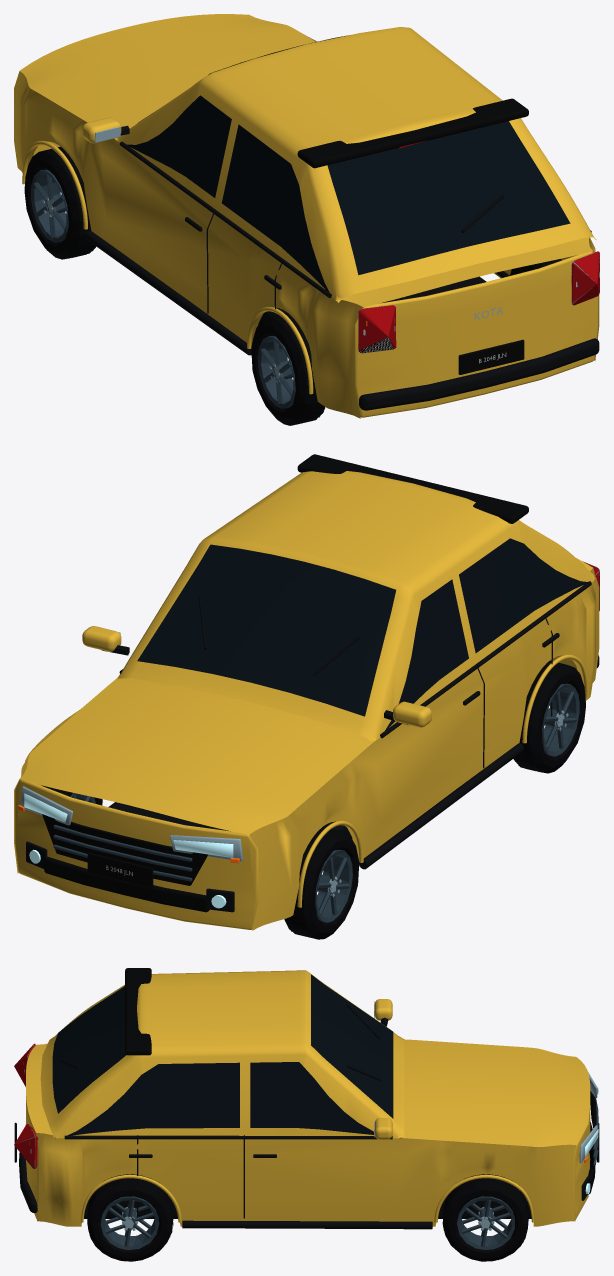
File: Body_LOD1.fbx
3 renders of one model, top to bottom at view 1: azimuth 30°, elevation 25°; view 2: azimuth 150°, elevation 25°; view 3: azimuth 270°, elevation 25°, orthographic. The views are drawn at different scales.
Visible parts, largest first — view 1: Body_Mesh, Wheel_RL_Mesh, Wheel_FL_Mesh, TailLights_Mesh; view 2: Body_Mesh, Wheel_FL_Mesh, Wheel_RL_Mesh, Headlights_Mesh; view 3: Body_Mesh, Wheel_FR_Mesh, Wheel_RR_Mesh, TailLights_Mesh, Headlights_Mesh.
Boxes of the visible parts, x1,y1,x2,y2 form: Body_Mesh: [14, 14, 599, 418]; Wheel_RL_Mesh: [251, 312, 325, 425]; Wheel_FL_Mesh: [24, 146, 95, 259]; TailLights_Mesh: [358, 140, 599, 353]; Body_Mesh: [14, 454, 599, 930]; Wheel_FL_Mesh: [284, 826, 359, 939]; Wheel_RL_Mesh: [513, 660, 585, 773]; Headlights_Mesh: [20, 786, 243, 908]; Body_Mesh: [14, 968, 599, 1229]; Wheel_FR_Mesh: [442, 1174, 528, 1261]; Wheel_RR_Mesh: [87, 1178, 173, 1261]; TailLights_Mesh: [14, 1043, 38, 1168]; Headlights_Mesh: [579, 1071, 598, 1193].
Size of the model in its own units: 210 by 153 by 395.
